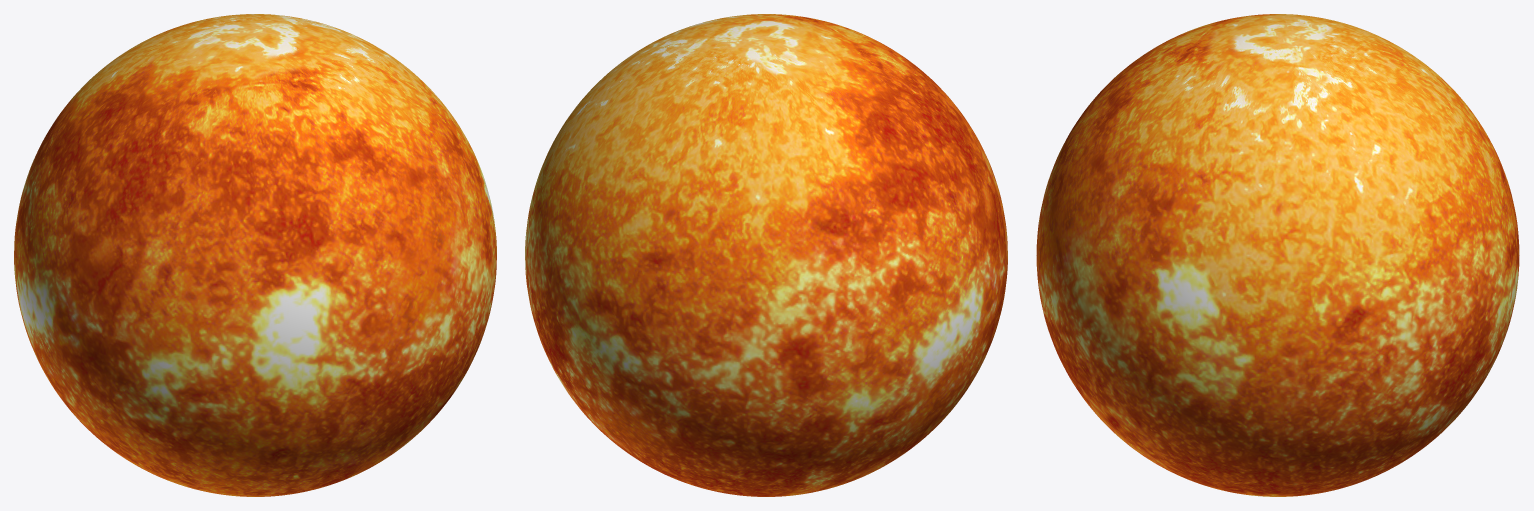
Rendered from SunModel.obj.
The picture shows the model from 3 angles, left to right: view 1: azimuth 30°, elevation 25°; view 2: azimuth 150°, elevation 25°; view 3: azimuth 270°, elevation 25°; orthographic projection.
Parts seen in each view (by area): view 1: obj1; view 2: obj1; view 3: obj1.
Boxes of the visible parts, <box> form: obj1: <box>14,14,496,496</box>; obj1: <box>525,14,1007,496</box>; obj1: <box>1036,14,1519,496</box>.
Size of the model in its own units: 0.512 by 0.512 by 0.512.
1 material, 1 textured.
